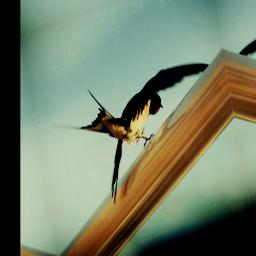Swallow: (49, 42, 228, 220)
